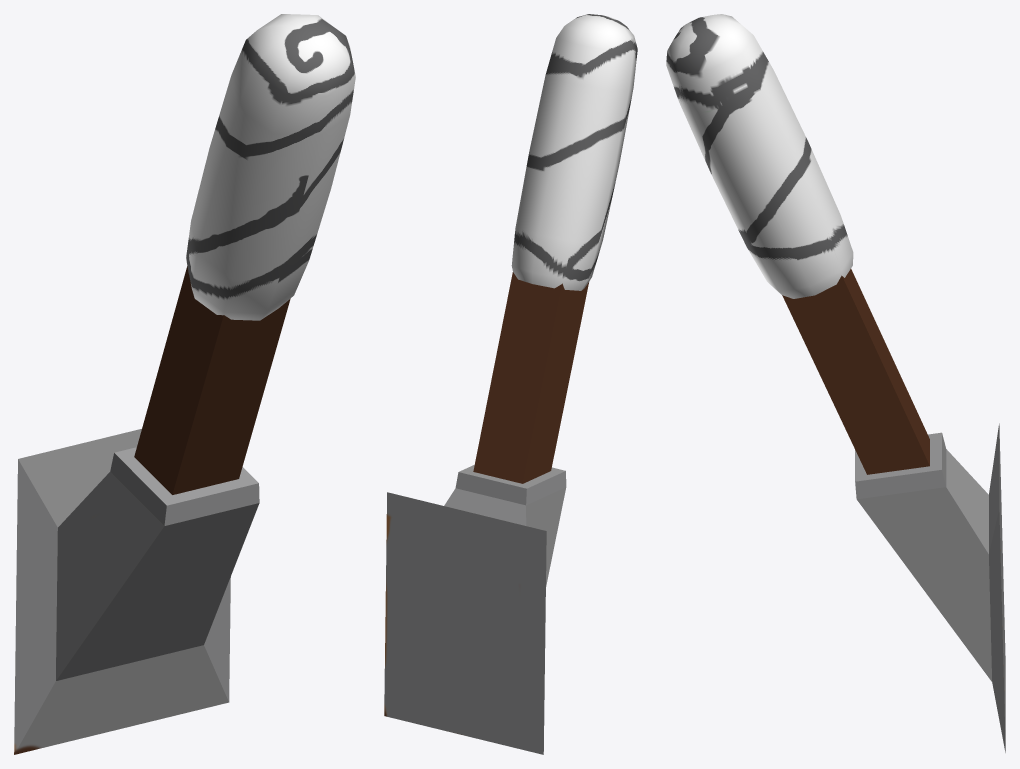
File: torch_post.glb
3 views of the same model, side by side, from view 1: azimuth 30°, elevation 25°; view 2: azimuth 150°, elevation 25°; view 3: azimuth 270°, elevation 25° (orthographic). The views are drawn at different scales.
Parts seen in each view (by area): view 1: Cube; view 2: Cube; view 3: Cube.
Boxes of the visible parts, x1,y1,x2,y2 form: Cube: (14, 14, 355, 754); Cube: (384, 14, 637, 754); Cube: (666, 14, 1005, 752).
Size of the model in its own units: 2.9 by 10.82 by 4.81.
Materials: 1 (1 with a texture image).
